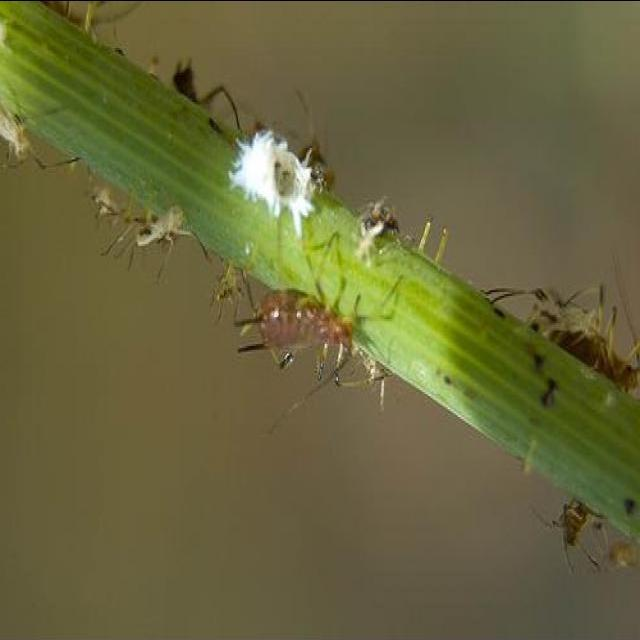aphid: (218, 266, 379, 397), (507, 275, 640, 404), (534, 500, 634, 584), (109, 198, 199, 264)
